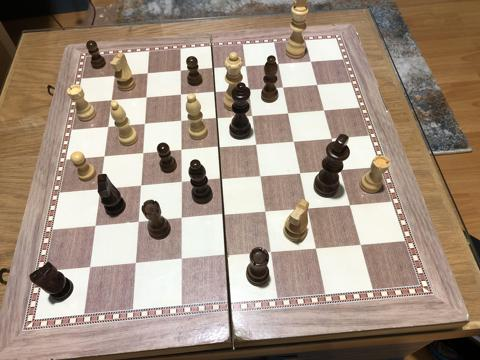xcorner: (102, 121, 115, 134), (304, 55, 317, 67), (272, 57, 284, 70), (207, 63, 220, 75), (175, 65, 187, 78), (142, 68, 155, 80), (243, 83, 255, 96), (317, 103, 330, 115), (210, 112, 223, 124), (174, 115, 187, 127), (138, 118, 151, 130), (325, 131, 337, 144), (174, 144, 186, 157), (294, 166, 306, 179), (214, 173, 226, 186), (134, 180, 146, 193), (93, 184, 106, 196), (343, 198, 355, 211), (174, 213, 186, 226), (354, 238, 366, 251), (240, 60, 252, 72), (110, 71, 122, 83), (311, 78, 323, 90), (277, 81, 289, 93), (209, 86, 221, 98), (175, 89, 187, 101), (141, 92, 153, 104), (106, 95, 118, 107), (282, 106, 294, 118), (246, 109, 258, 121), (288, 135, 300, 147), (250, 138, 262, 150), (212, 141, 224, 153), (136, 148, 148, 160), (98, 151, 110, 163), (334, 163, 346, 175), (254, 170, 266, 182), (174, 177, 186, 189), (301, 202, 313, 214), (259, 206, 271, 218), (216, 210, 228, 222), (131, 217, 143, 229), (88, 221, 100, 233), (309, 243, 321, 255), (264, 247, 276, 259), (219, 251, 231, 263), (173, 255, 185, 267), (128, 259, 140, 271), (82, 263, 94, 275)
